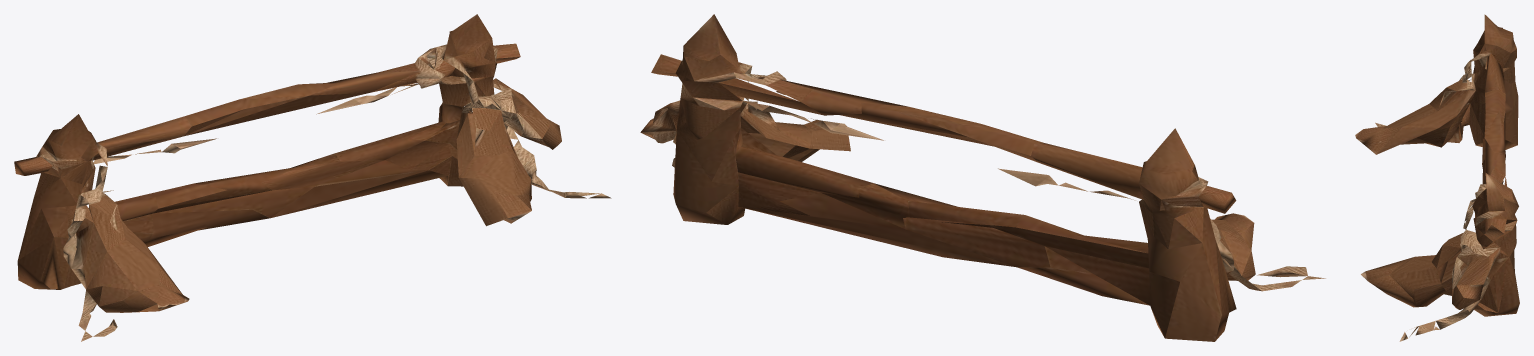
Rendered from juma.glb.
3 views of the same model, side by side, from view 1: azimuth 30°, elevation 25°; view 2: azimuth 150°, elevation 25°; view 3: azimuth 270°, elevation 25° (orthographic). The views are drawn at different scales.
Visible parts, largest first — view 1: environment-juma, environment-juma-background; view 2: environment-juma, environment-juma-background; view 3: environment-juma, environment-juma-background.
Part boxes in pixels (left/top/right/bottom): environment-juma: left=14, top=14, right=611, bottom=341; environment-juma-background: left=43, top=38, right=601, bottom=330; environment-juma: left=641, top=14, right=1325, bottom=341; environment-juma-background: left=640, top=65, right=1301, bottom=305; environment-juma: left=1355, top=14, right=1519, bottom=341; environment-juma-background: left=1409, top=44, right=1518, bottom=337.
Bounding box in the file's own units: 88 × 26 × 28.
1 material, 1 textured.
